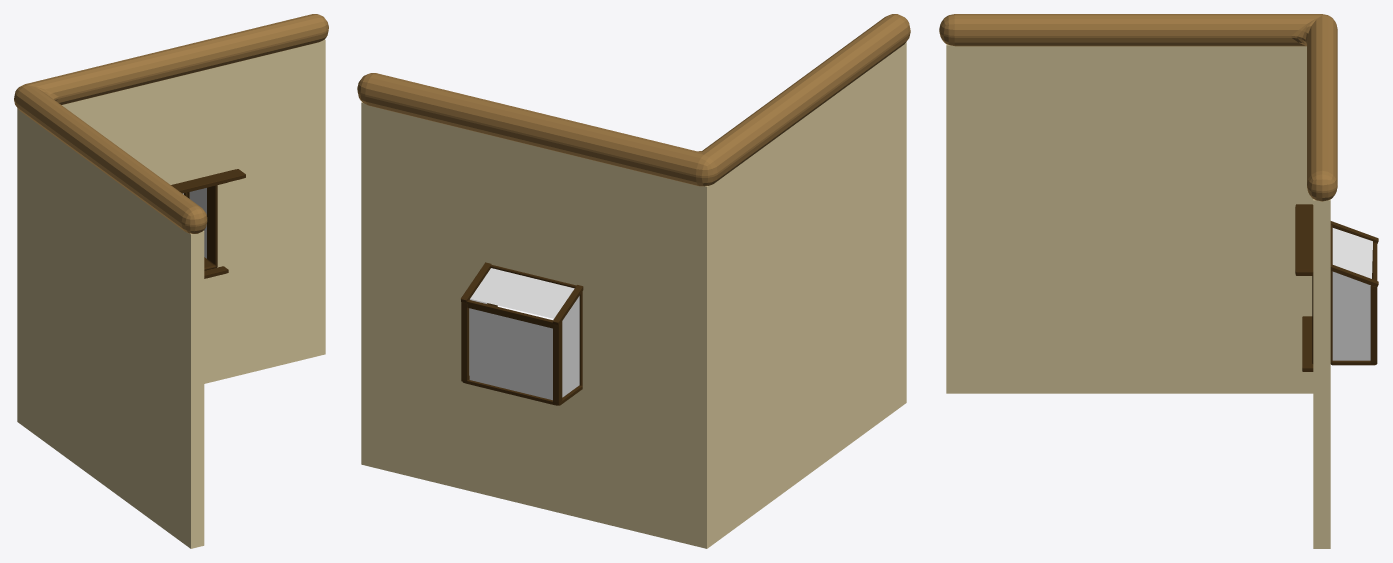
The model's file is CornerWallwithouttBrick03.fbx.
The picture shows the model from 3 angles, left to right: view 1: azimuth 30°, elevation 25°; view 2: azimuth 150°, elevation 25°; view 3: azimuth 270°, elevation 25°; orthographic projection. The views are drawn at different scales.
Visible parts, largest first — view 1: CornerWall-Window01.001; view 2: CornerWall-Window01.001; view 3: CornerWall-Window01.001.
Boxes of the visible parts, box(x1,y1,x2,y2) form: CornerWall-Window01.001: box(14, 14, 328, 548); CornerWall-Window01.001: box(357, 14, 910, 548); CornerWall-Window01.001: box(939, 14, 1378, 548).
Bounding box in the file's own units: 207 × 215 × 229.
